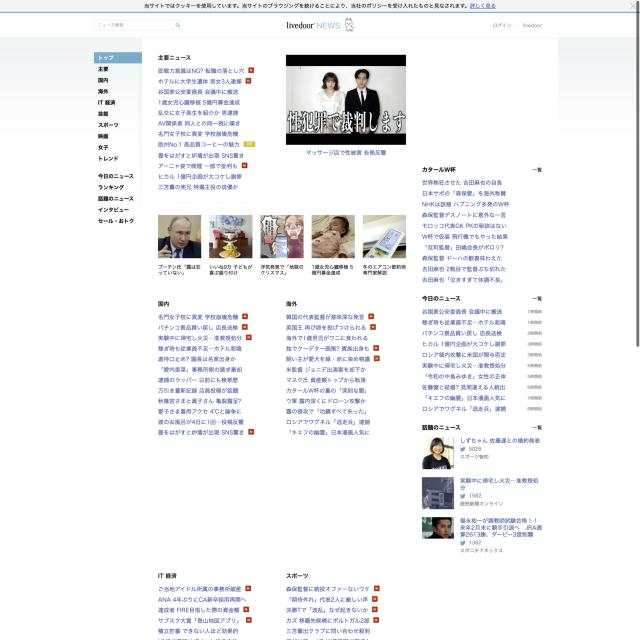input: (94, 19, 183, 31)
logo: (284, 16, 358, 34)
navigation: (93, 50, 143, 228)
